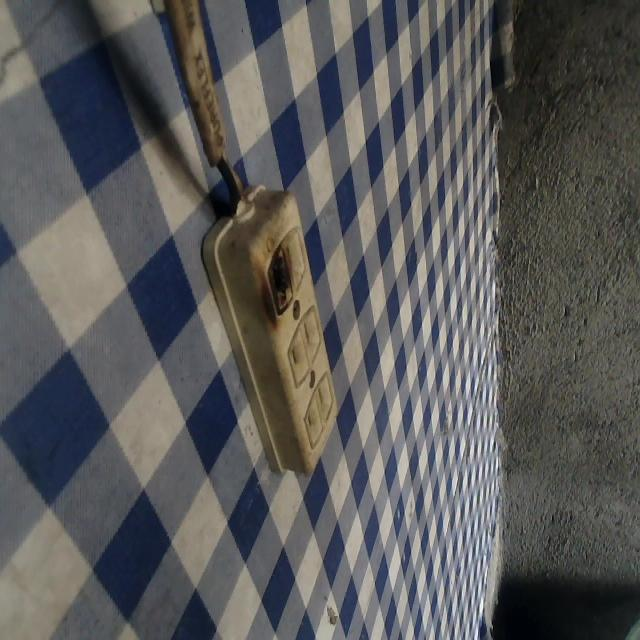-: (255, 240, 296, 313)
